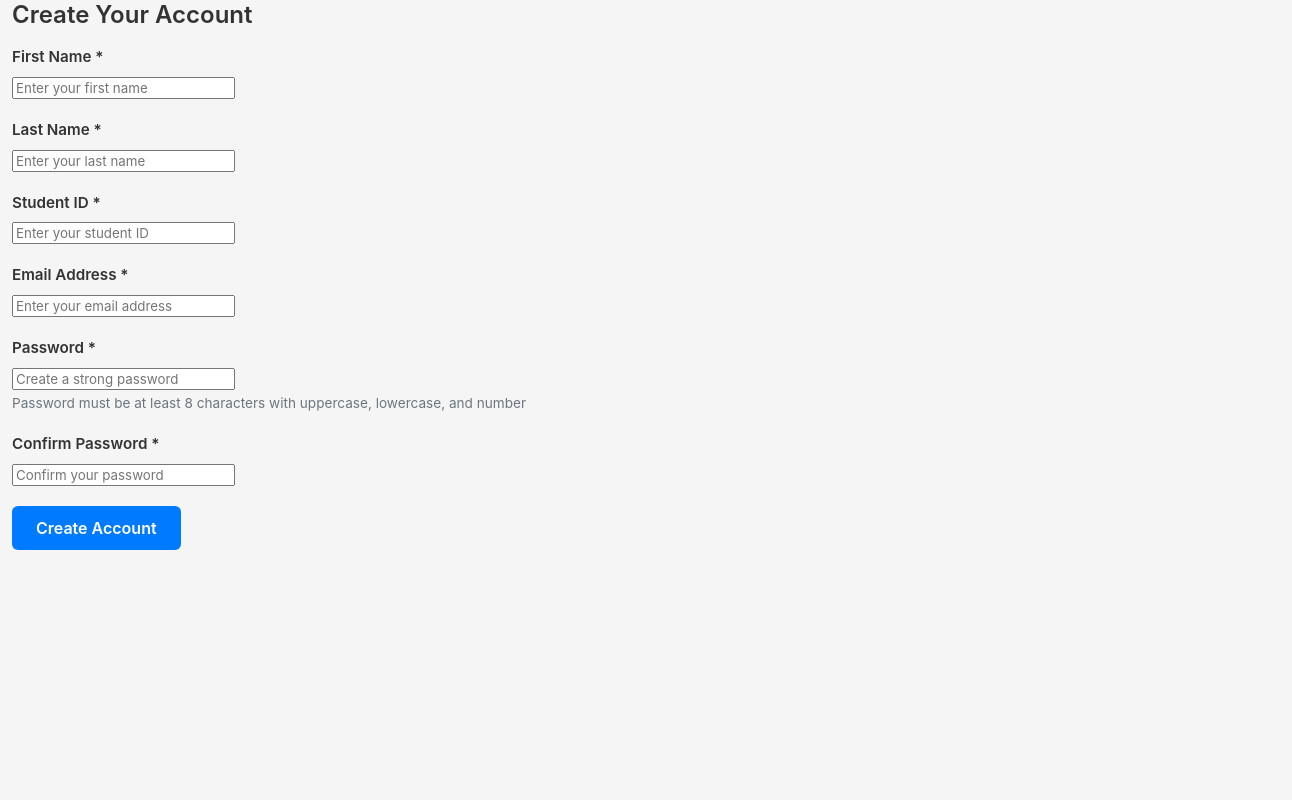
Scenario: RegisterForm › displays validation errors for empty fields
Step 1. Click the button "Create Account" → {"x": 96, "y": 528}, box top-left (12, 506), bottom-right (181, 550)
(page scrolled)
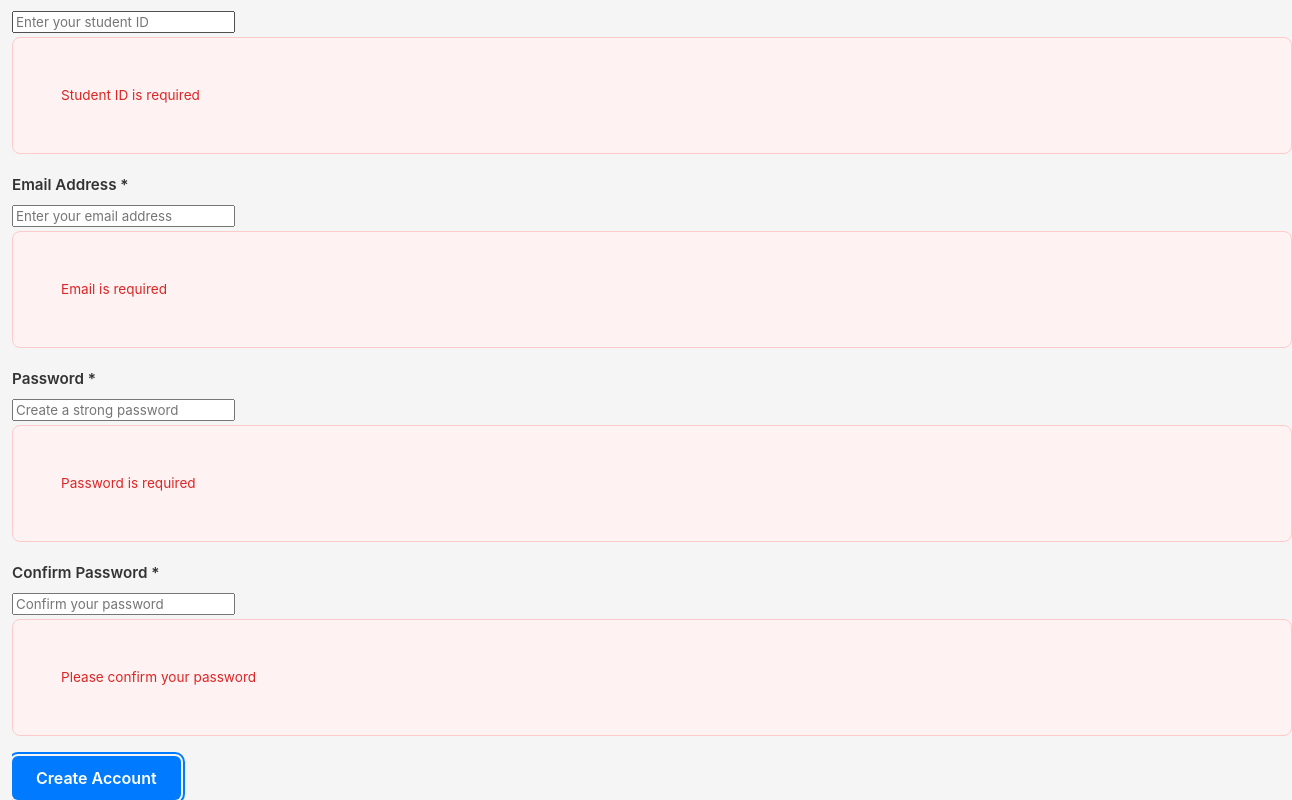
Check: the text "Student ID is required" is shown, box top-left (12, 38), bottom-right (1291, 154)
Check: the text "Email is required" is shown, box top-left (12, 231), bottom-right (1291, 348)
Check: the text "Password is required" is shown, box top-left (12, 425), bottom-right (1291, 542)
